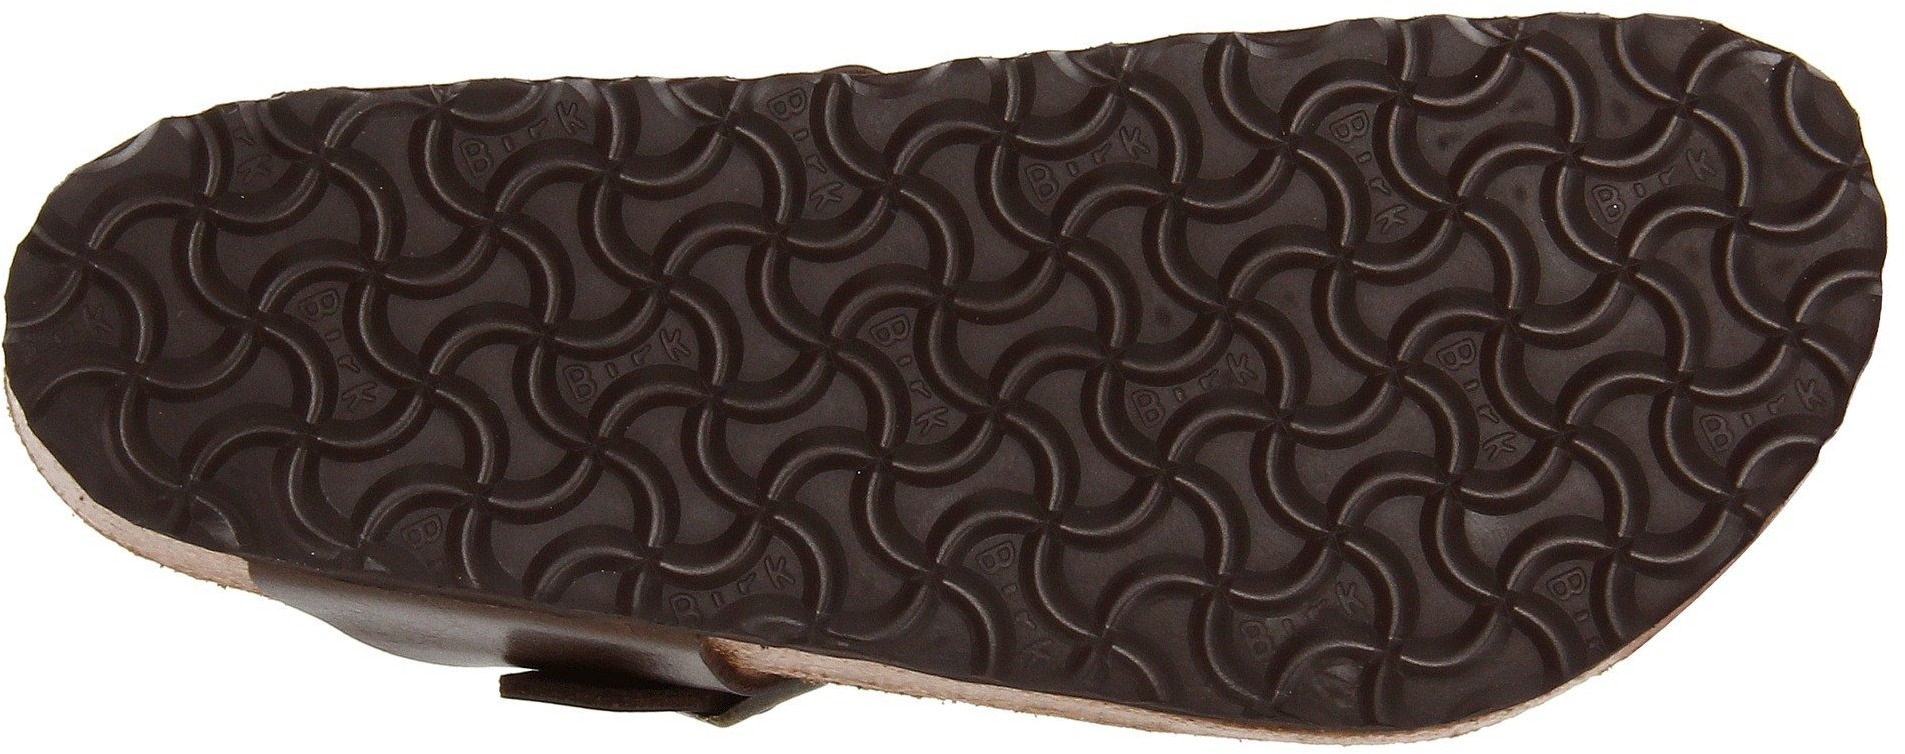bowtie: (693, 87, 1050, 427), (1329, 36, 1641, 382), (407, 103, 686, 415), (90, 193, 394, 469), (1325, 381, 1604, 664), (1053, 57, 1323, 314), (1059, 335, 1321, 555), (812, 433, 1042, 652), (1651, 98, 1858, 307), (445, 421, 645, 596)
text: (693, 87, 1050, 427), (1329, 36, 1641, 382), (407, 103, 686, 415), (90, 193, 394, 469), (1325, 381, 1604, 664), (1053, 57, 1323, 314), (1059, 335, 1321, 555), (812, 433, 1042, 652), (1651, 98, 1858, 307)
